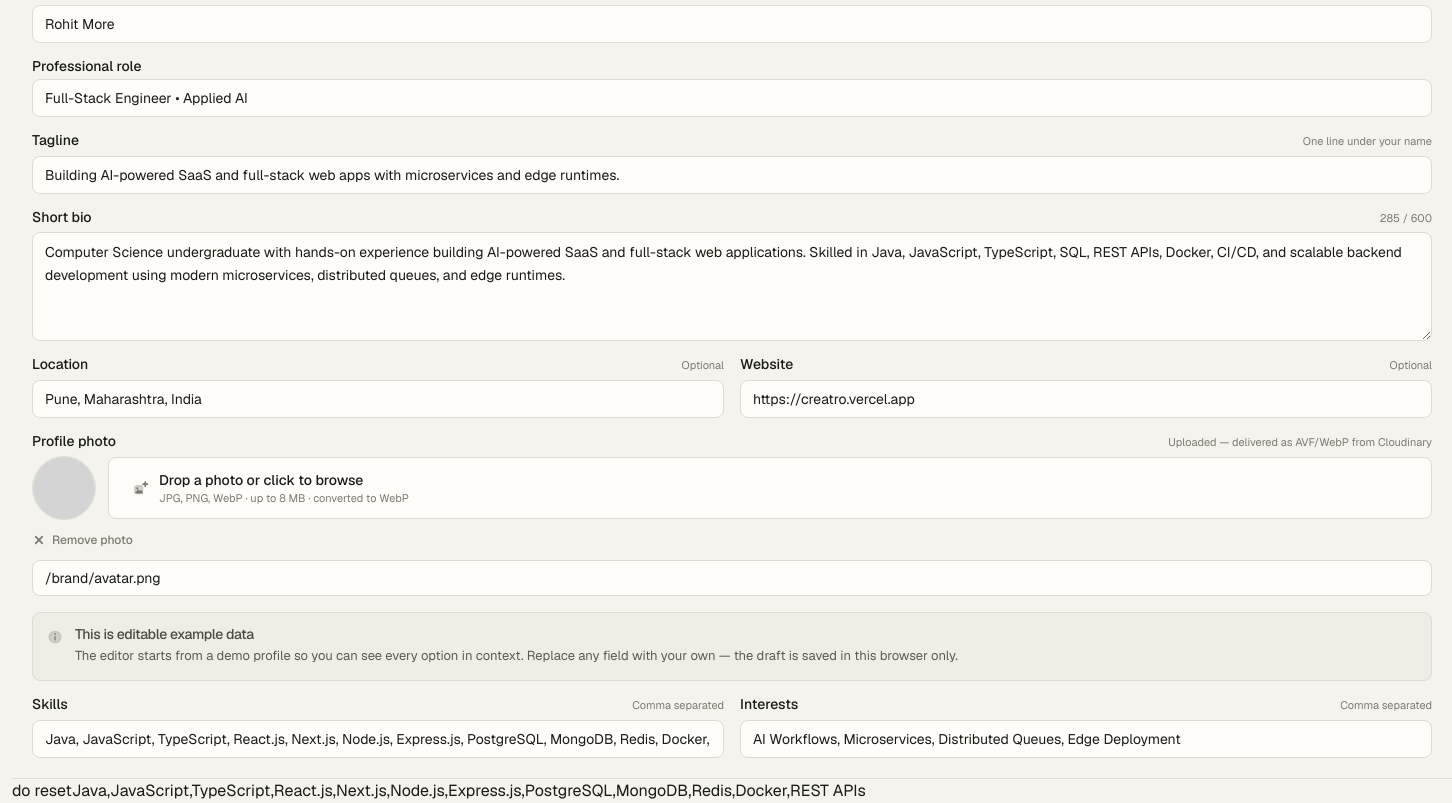
it: BasicFields reset sync › commits while typing so the live preview follows along
The image size is (1452, 803).
(page scrolled)
Replace the text in the field labelled "Skills" with "Zed, Alph" at [378, 739], box [32,720,724,758]
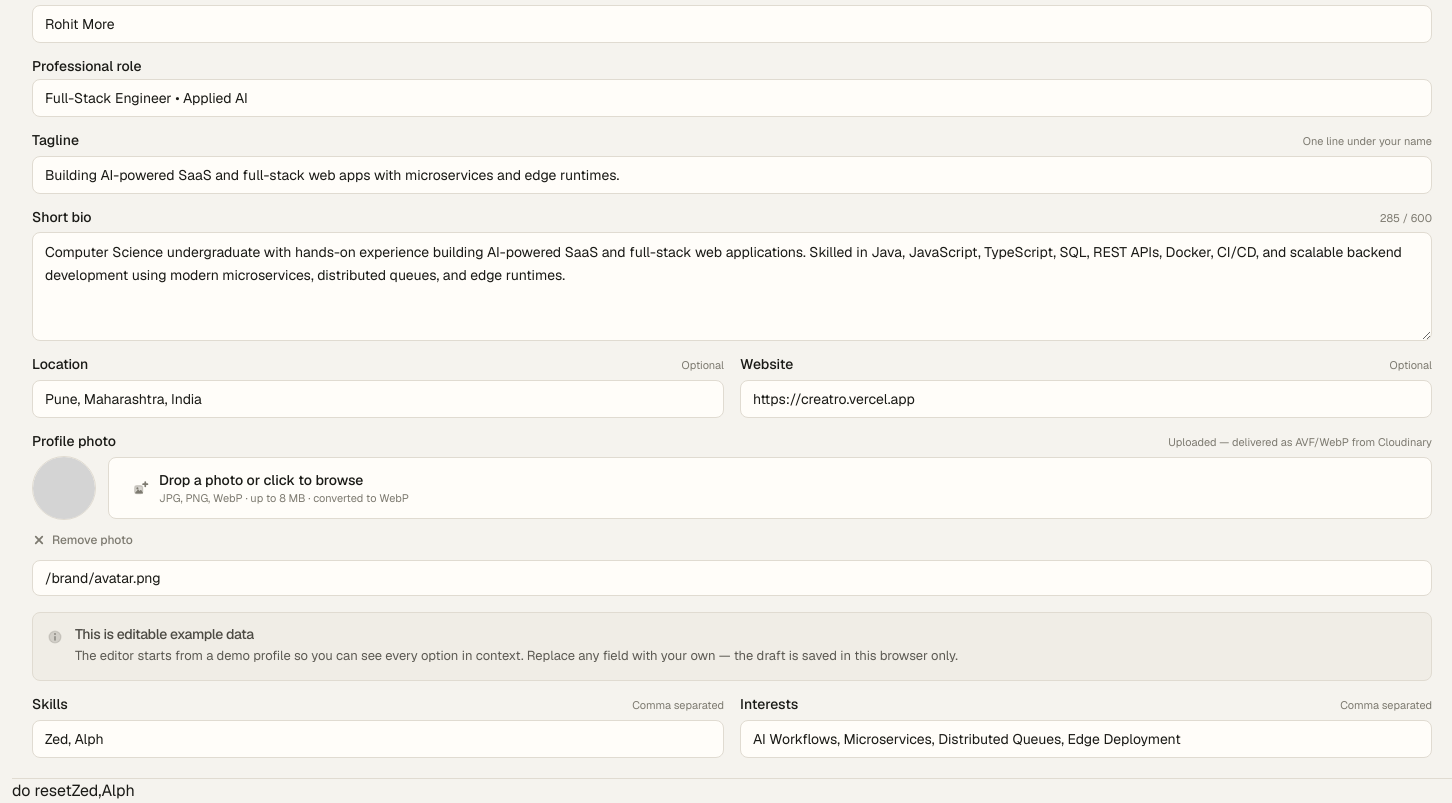
Check: the text with test id "probe-skills" reads "Zed,Alph", box [72,780,135,801]
